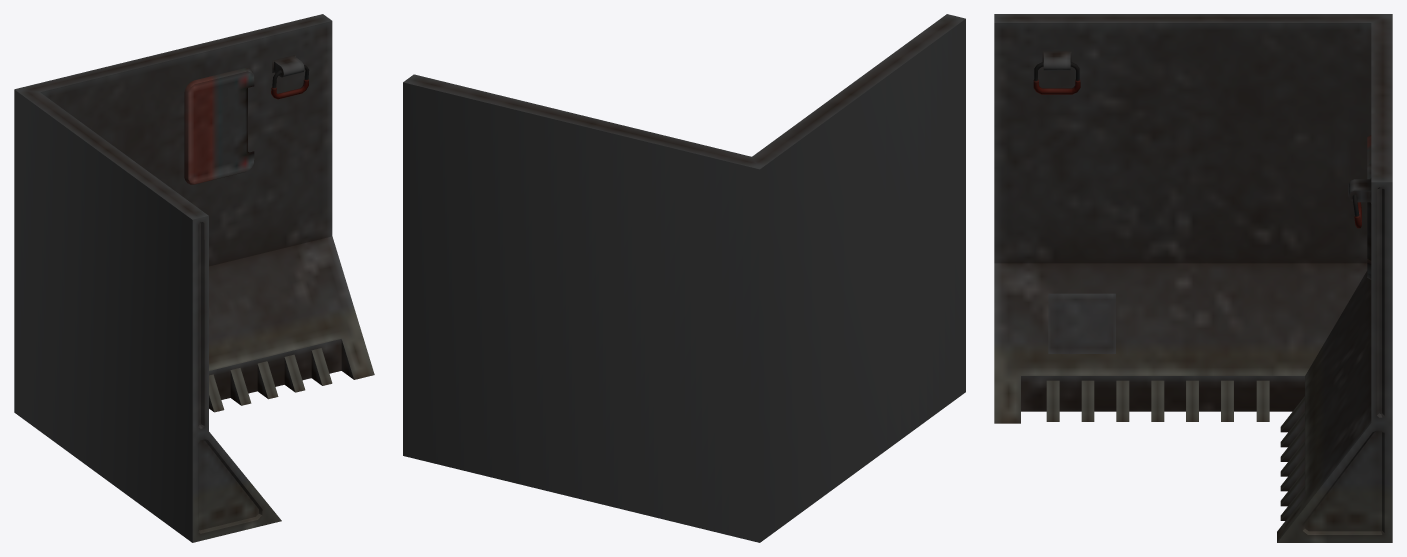
Rendered from Wall_24_Corner_in_1.FBX.
3 renders of one model, left to right at view 1: azimuth 30°, elevation 25°; view 2: azimuth 150°, elevation 25°; view 3: azimuth 270°, elevation 25°, orthographic. The views are drawn at different scales.
Visible parts, largest first — view 1: Wall_24; view 2: Wall_24; view 3: Wall_24.
Part boxes in pixels (x1,y1,x2,y2): Wall_24: (14,14,374,542); Wall_24: (403,14,965,542); Wall_24: (994,14,1392,542).
Size of the model in its own units: 300 by 300 by 300.
